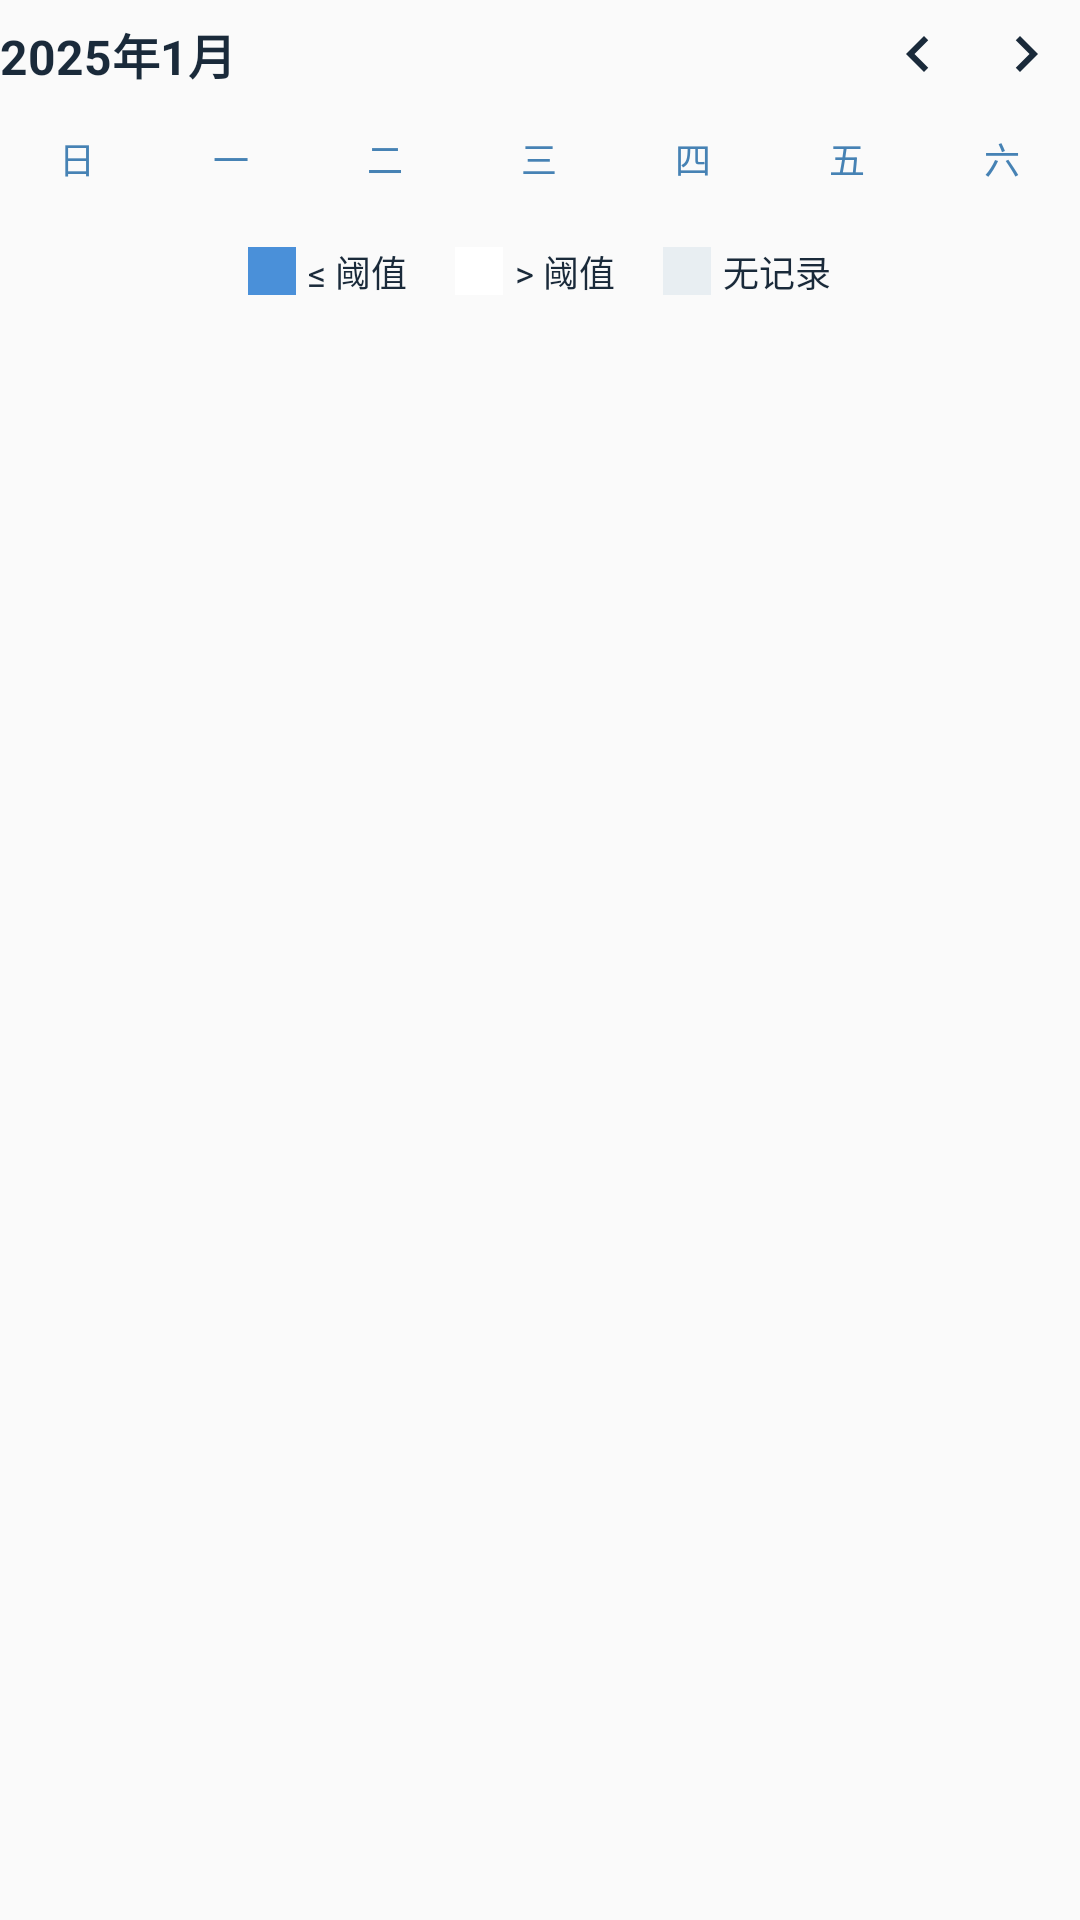

Named icons in this screenshot (1080 x 1920) and their bounding boxes, bbox=[x1, y1, x2, y2]:
上个月: bbox=[906, 36, 928, 72]
下个月: bbox=[1016, 36, 1038, 72]
